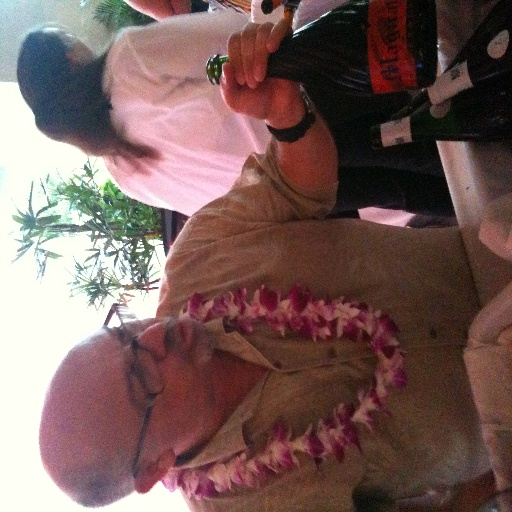hand: (217, 17, 302, 124)
